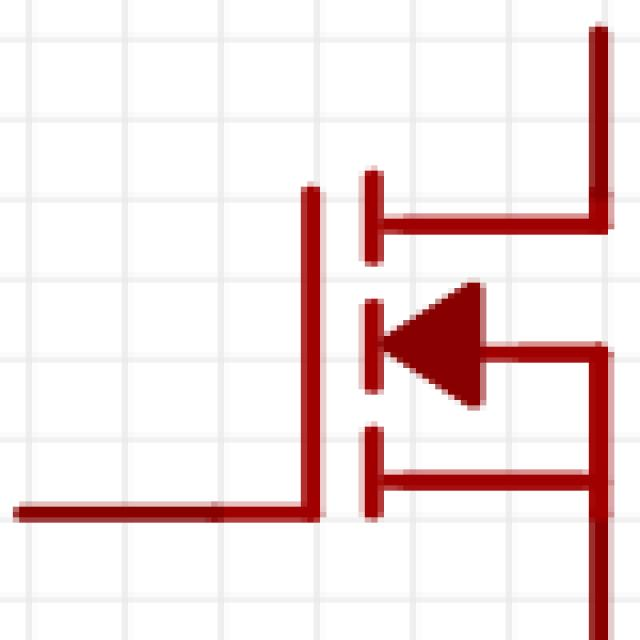nmos: (20, 14, 640, 624)
